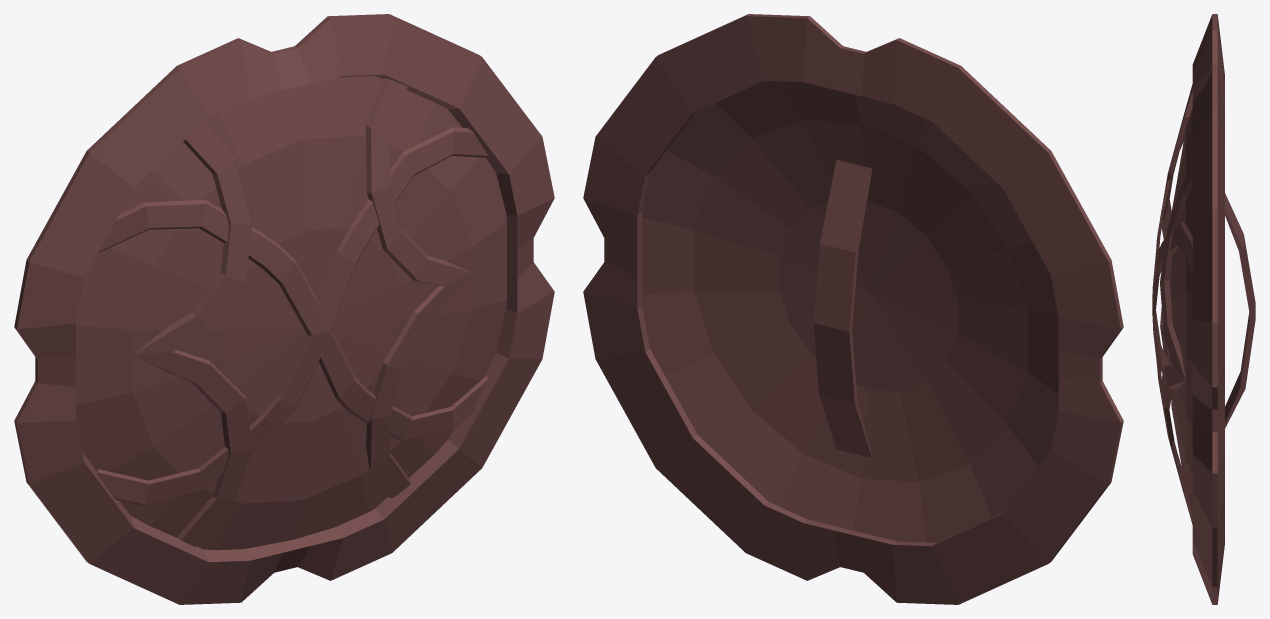
The model's file is SM_shield_elite.fbx.
3 views of the same model, side by side, from view 1: azimuth 30°, elevation 25°; view 2: azimuth 150°, elevation 25°; view 3: azimuth 270°, elevation 25° (orthographic). The views are drawn at different scales.
Visible parts, largest first — view 1: Cylinder009; view 2: Cylinder009; view 3: Cylinder009.
Boxes of the visible parts, x1,y1,x2,y2 form: Cylinder009: [14, 14, 554, 604]; Cylinder009: [583, 14, 1123, 604]; Cylinder009: [1152, 14, 1255, 604].
Bounding box in the file's own units: 23.46 × 23.46 × 4.24.
